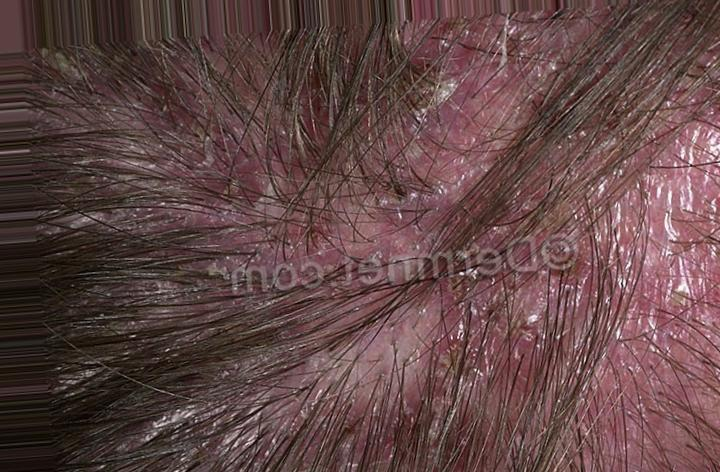Folliculitis: (353, 27, 681, 365)
